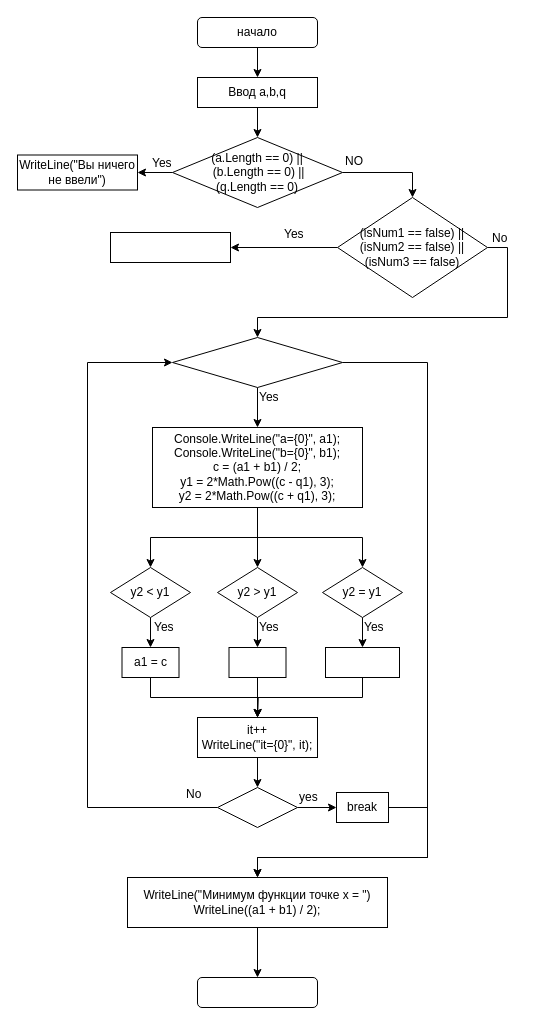
Some shapes in this 538 by 1025 pixel diagram are drawn without their labels. Each missing label, with the centre of its shape:
a1 = c - q1 b1 = c + q1;: (362,662)
b1 = c: (257,662)
it > 30: (257,807)
Math.Abs(b1 + a1) > q1: (257,362)
WriteLine("Вы ввели не число"): (170,247)
конец: (257,992)
